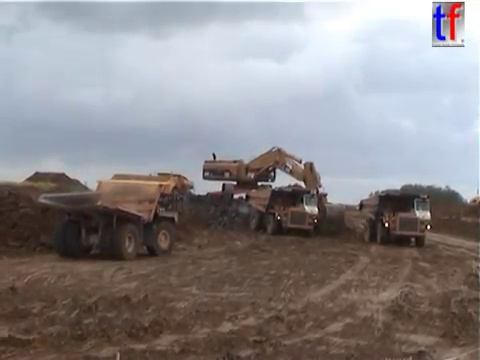excavator: (202, 145, 346, 236), (205, 182, 303, 213)
truck: (36, 171, 184, 261), (357, 192, 432, 248), (243, 185, 320, 235), (147, 170, 195, 203), (466, 194, 480, 213)
